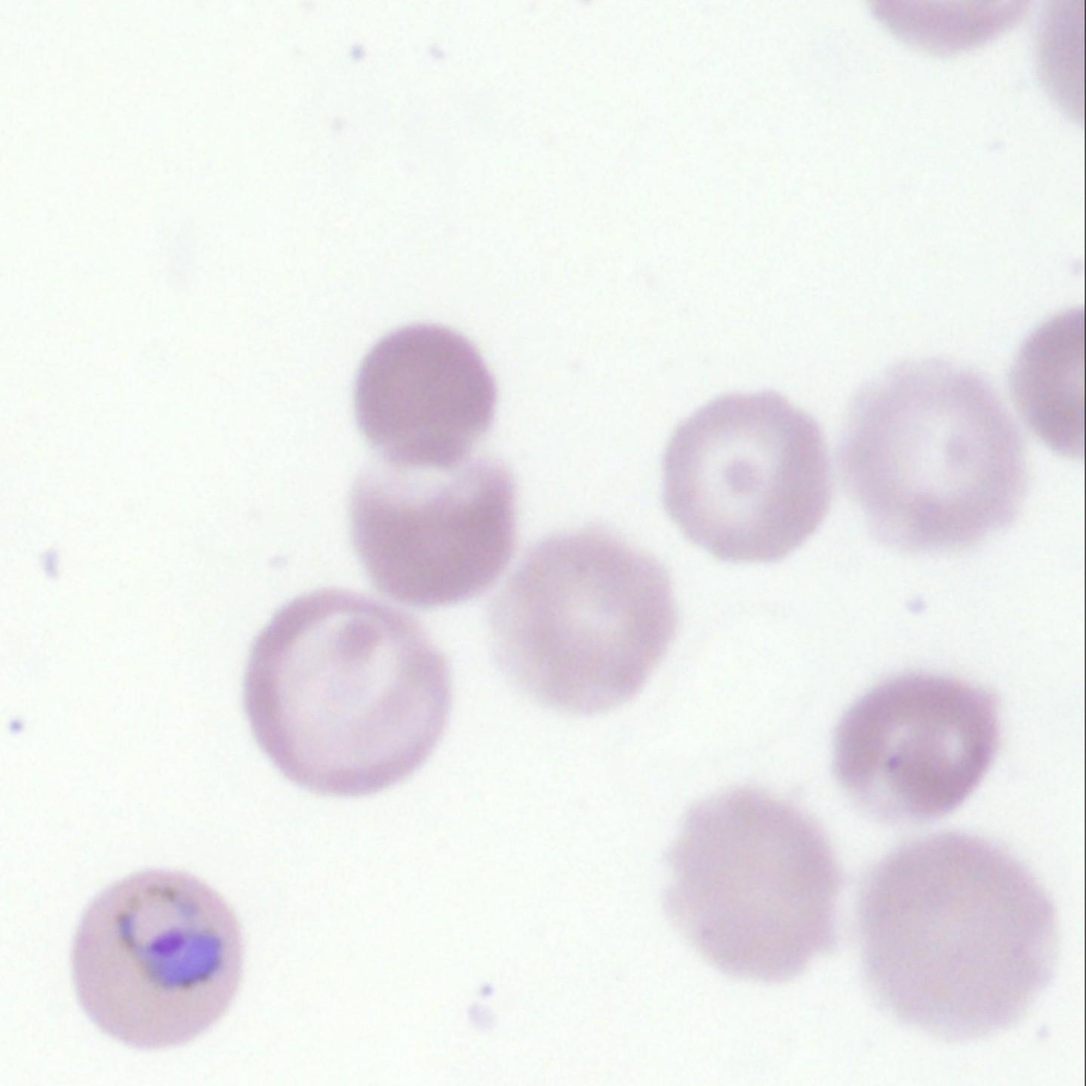Infected: (68, 868, 247, 1053)
Uninfected: (242, 585, 454, 798), (860, 838, 1056, 1038), (664, 783, 845, 983), (492, 534, 680, 719), (847, 363, 1030, 541), (657, 385, 833, 562), (347, 434, 518, 600), (835, 675, 1002, 820), (349, 319, 500, 460)
